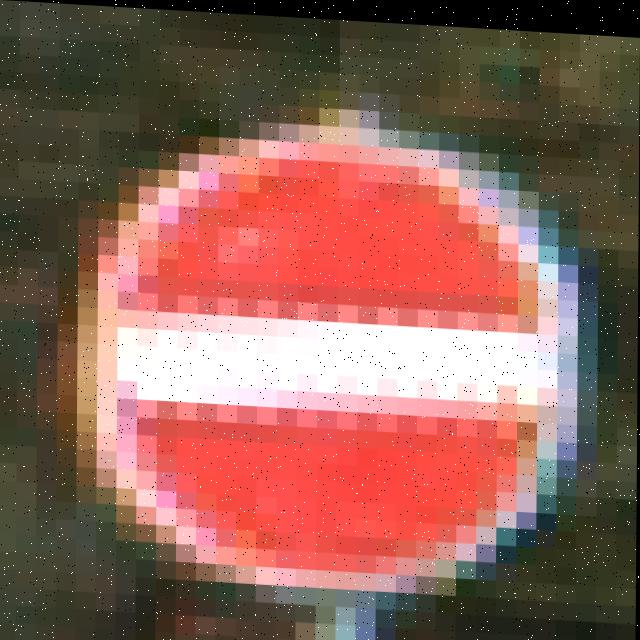road_rough: (92, 116, 574, 638)
